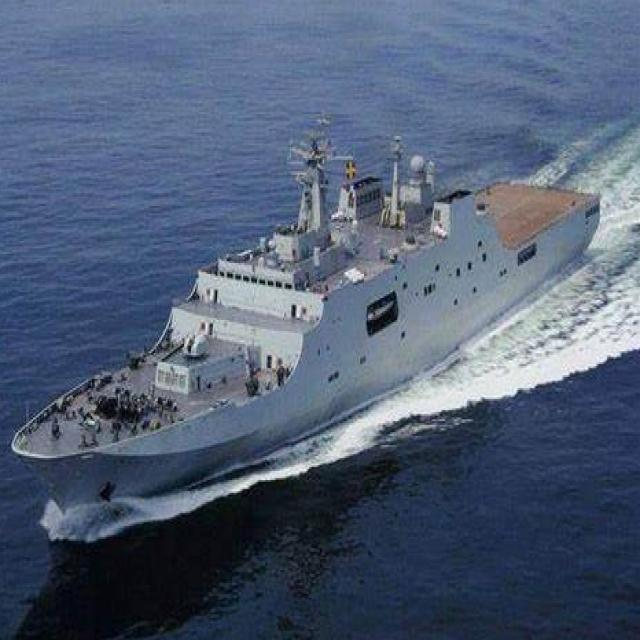navalvessels: (6, 93, 616, 465)
